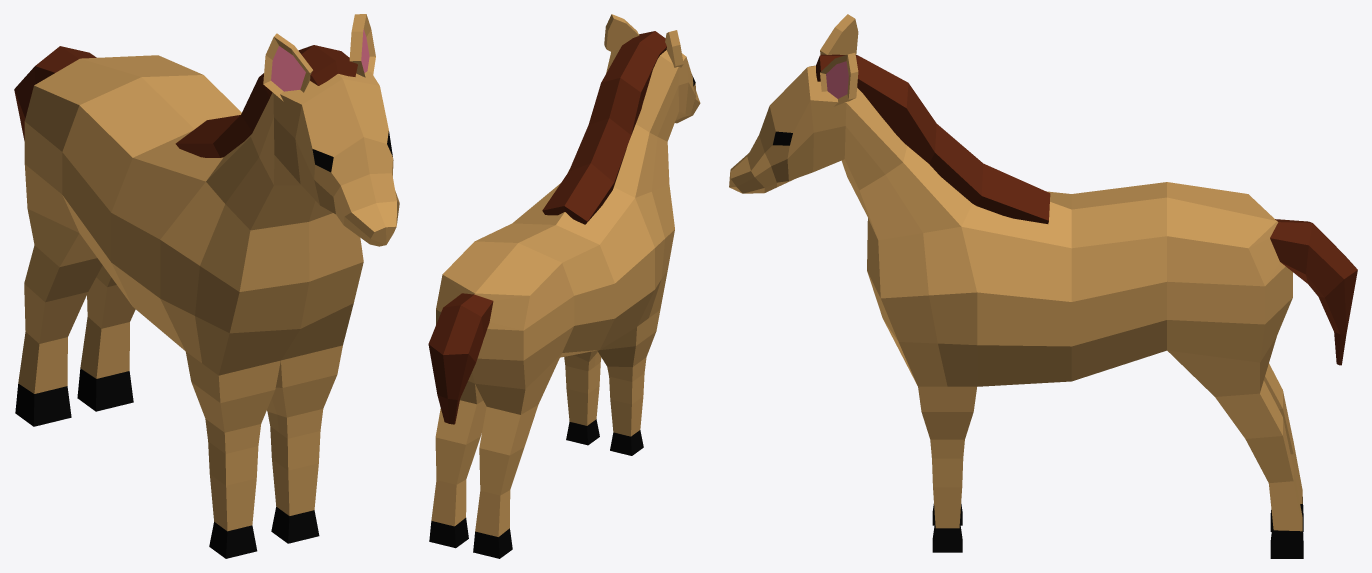
3 renders of one model, left to right at view 1: azimuth 30°, elevation 25°; view 2: azimuth 150°, elevation 25°; view 3: azimuth 270°, elevation 25°, orthographic. The views are drawn at different scales.
Visible parts, largest first — view 1: Cube, Cube.001, Cube.002; view 2: Cube, Cube.001, Cube.002; view 3: Cube, Cube.001, Cube.002.
Part boxes in pixels (box(x1,y1,x2,y2)): Cube: box(14, 46, 399, 558); Cube.001: box(175, 45, 357, 157); Cube.002: box(263, 14, 375, 101); Cube: box(428, 49, 700, 558); Cube.001: box(542, 31, 666, 224); Cube.002: box(604, 14, 683, 67); Cube: box(729, 65, 1357, 558); Cube.001: box(816, 54, 1050, 223); Cube.002: box(820, 14, 858, 106).
Size of the model in its own units: 246 by 755 by 855.
